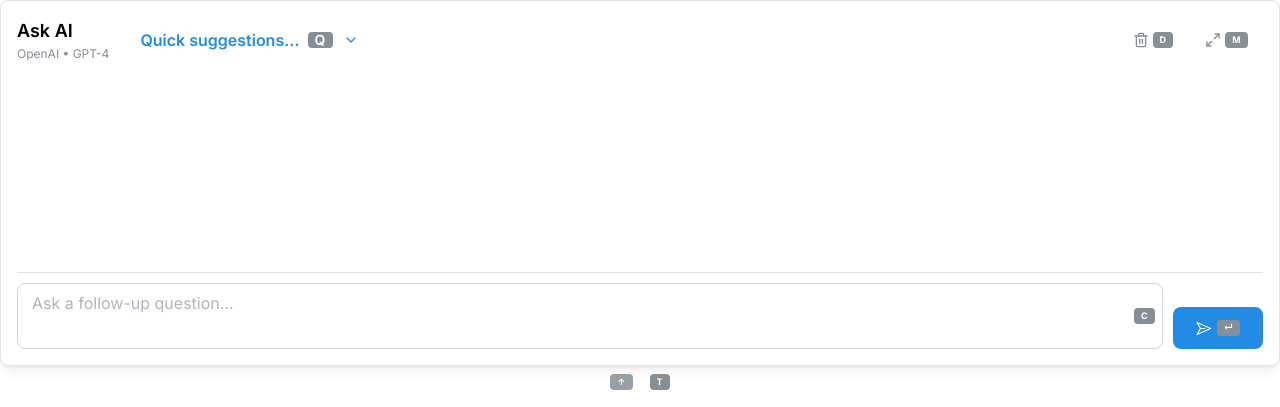
Chat Component › closes quick suggestions dropdown when ESC key is pressed
Open the suggestions dropdown
Click the button "Quick suggestions... Q" at (247, 40), box [125,25,369,55]
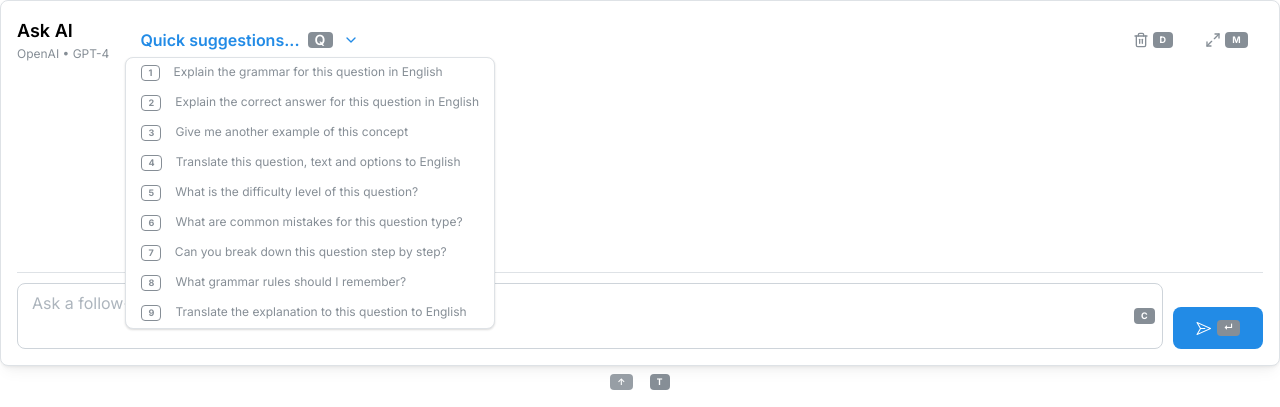
Now the text "Explain the grammar for this question in English" is shown, box [174,64,479,81]
